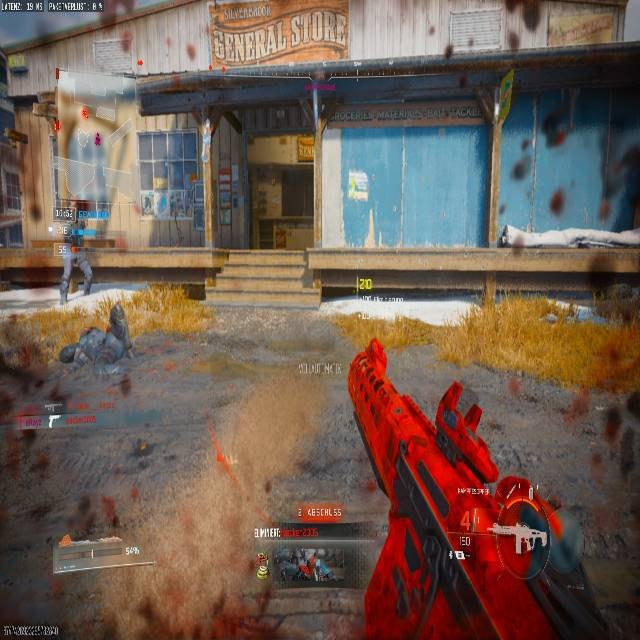player: (59, 225, 95, 302)
